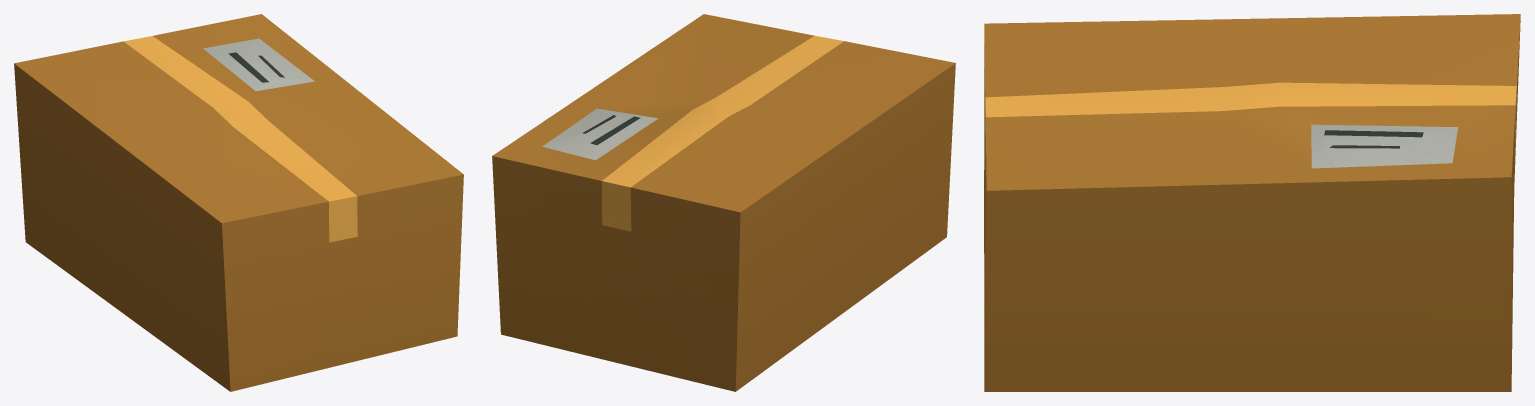
3 renders of one model, left to right at view 1: azimuth 30°, elevation 25°; view 2: azimuth 150°, elevation 25°; view 3: azimuth 270°, elevation 25°, orthographic. The views are drawn at different scales.
Visible parts, largest first — view 1: Box_4; view 2: Box_4; view 3: Box_4.
Part boxes in pixels (<box>): Box_4: <box>14,14,463,391</box>; Box_4: <box>492,14,955,391</box>; Box_4: <box>984,14,1520,391</box>.
Bounding box in the file's own units: 51.37 × 35.81 × 75.79.
